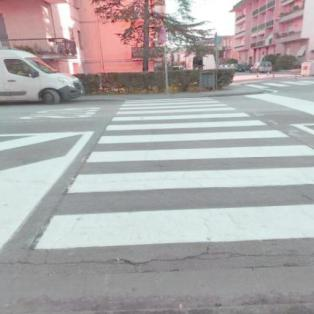Paso de Cebra: (18, 168, 314, 262), (83, 126, 313, 164), (112, 101, 244, 115)
